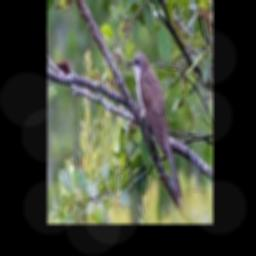Cuckoo: (128, 52, 183, 200)
